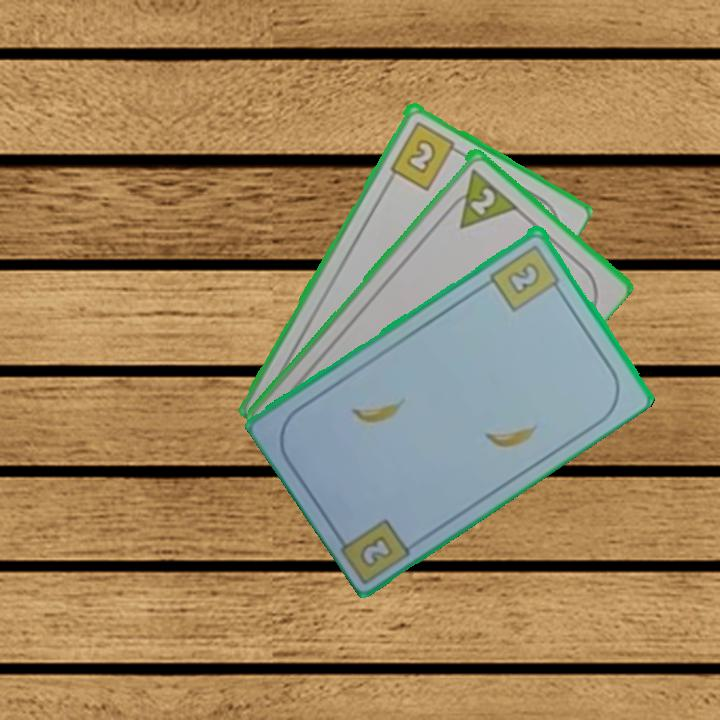2b: (386, 117, 465, 193), (486, 240, 566, 314), (356, 531, 397, 570)
2p: (441, 164, 519, 231)
